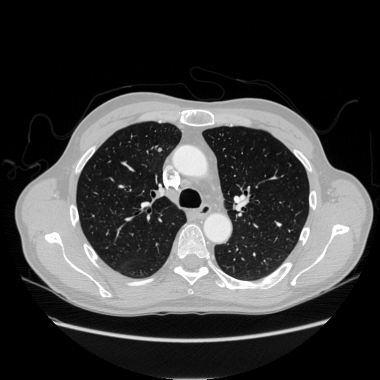nodule: (157, 147, 161, 151)
